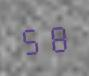eight: (44, 20, 68, 53)
five: (19, 22, 43, 56)
